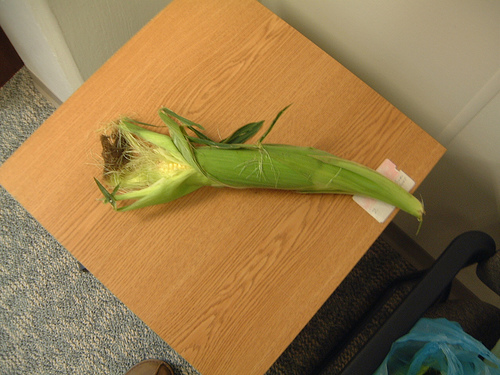corn: (90, 108, 423, 219)
